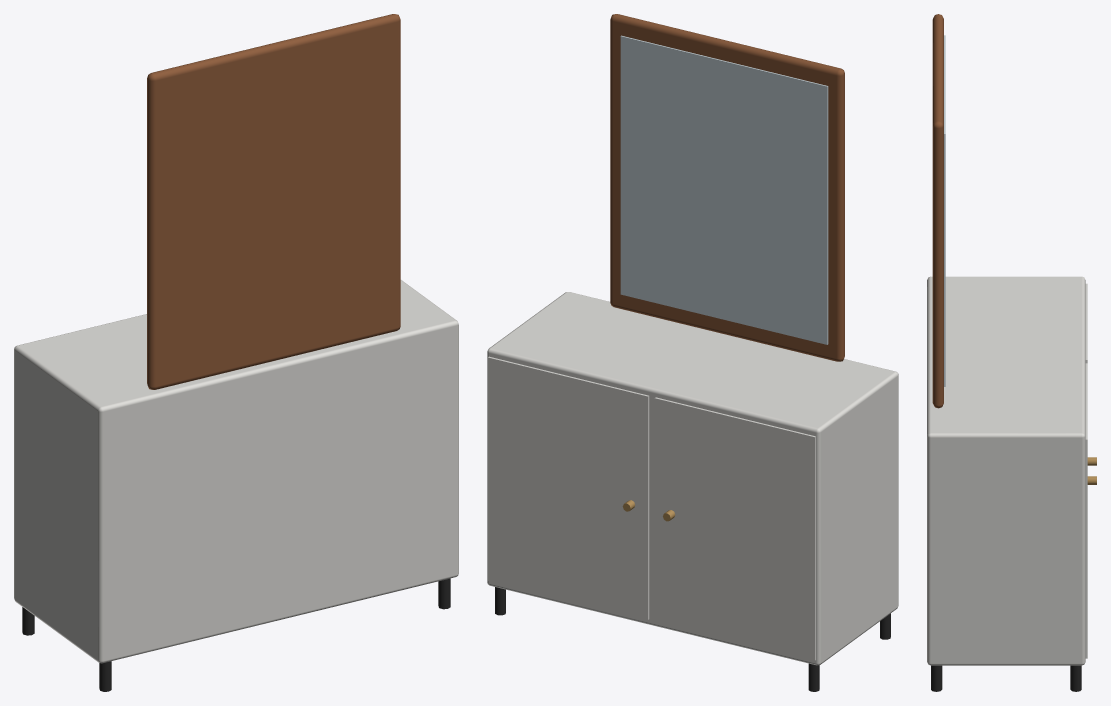
3 renders of one model, left to right at view 1: azimuth 30°, elevation 25°; view 2: azimuth 150°, elevation 25°; view 3: azimuth 270°, elevation 25°, orthographic. The views are drawn at different scales.
Parts seen in each view (by area): view 1: body, mirror-frame; view 2: mirror, body, drawer-left, drawer-right, mirror-frame; view 3: body, mirror-frame, drawer-right, mirror, leg-4, leg-2.
Boxes of the visible parts, x1,y1,x2,y2 form: body: (14,280,458,663); mirror-frame: (147,14,400,389); mirror: (620,35,828,344); body: (487,292,898,665); drawer-left: (654,397,815,660); drawer-right: (488,356,649,619); mirror-frame: (610,14,844,361); body: (927,276,1085,665); mirror-frame: (932,14,943,408); drawer-right: (1085,363,1087,658); mirror: (944,35,945,386); leg-4: (931,665,942,691); leg-2: (1070,665,1081,691).
Size of the model in its own units: 1 by 1.6 by 0.45.
